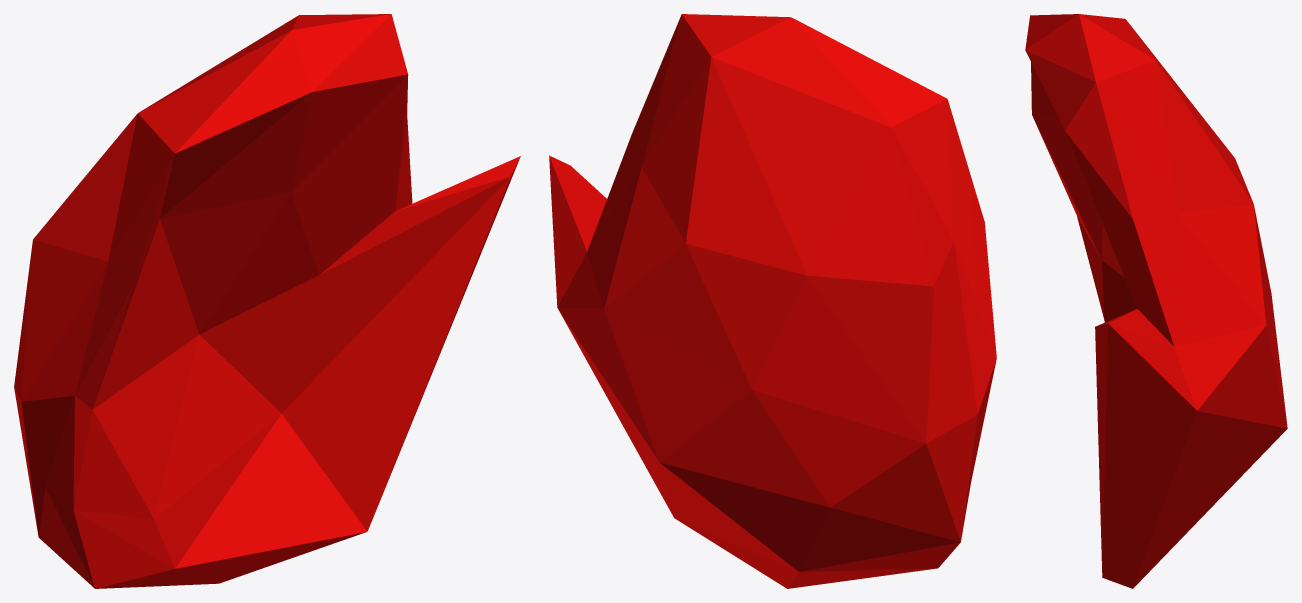
File: Glove.fbx
3 views of the same model, side by side, from view 1: azimuth 30°, elevation 25°; view 2: azimuth 150°, elevation 25°; view 3: azimuth 270°, elevation 25° (orthographic). The views are drawn at different scales.
Visible parts, largest first — view 1: Icosphere; view 2: Icosphere; view 3: Icosphere.
Part boxes in pixels (x1,y1,x2,y2): Icosphere: (14, 14, 520, 588); Icosphere: (549, 14, 996, 588); Icosphere: (1025, 14, 1287, 588).
Size of the model in its own units: 254 by 291 by 123.
